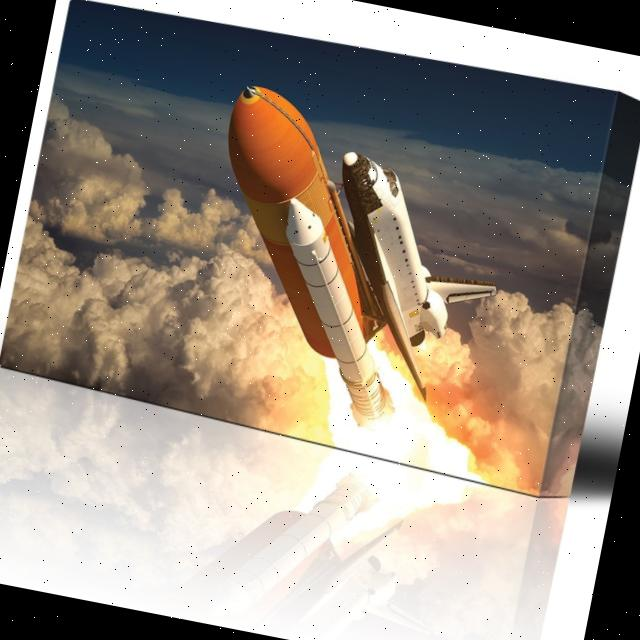rocket: (288, 147, 532, 373)
